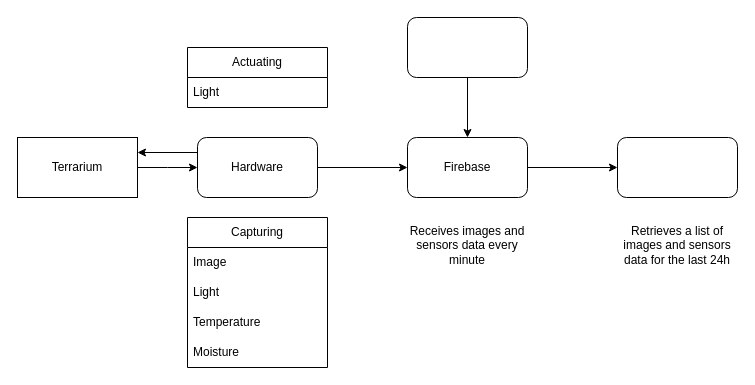
Some shapes in this 755 by 385 pixel diagram are drawn without their labels. The centre of each missing label's shape, as x and y in pixels:
Deletes previous info when it is older than 24 hours: the point at 467,47
Flutter App: the point at 677,167
